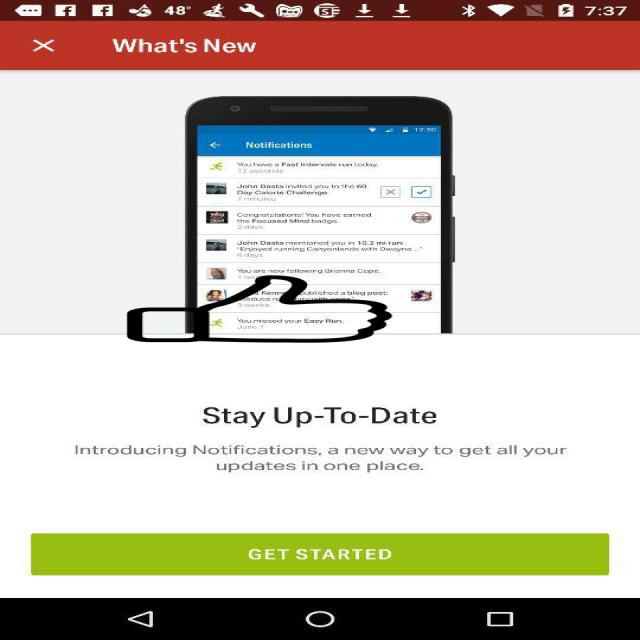privacy zuckering: (123, 275, 396, 343)
